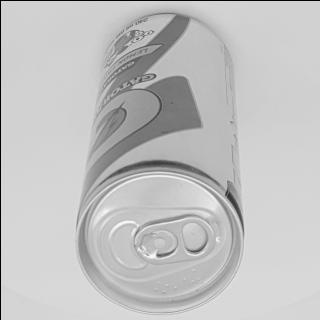alumunium_can: (70, 11, 246, 318)
